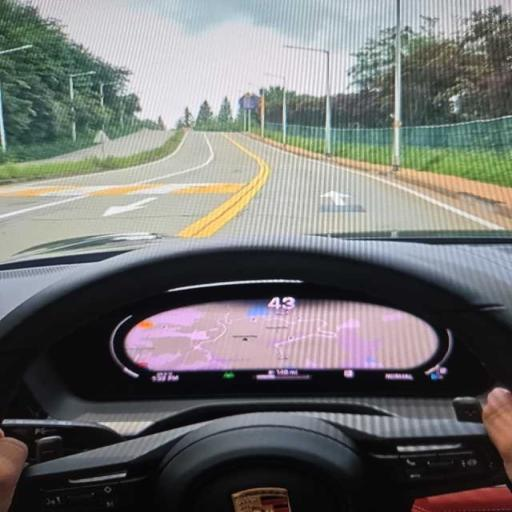car: (0, 0, 511, 511), (0, 237, 511, 510)
lane: (0, 133, 499, 259), (0, 133, 258, 259), (220, 135, 501, 236)
person: (483, 388, 511, 480), (0, 431, 27, 511)
